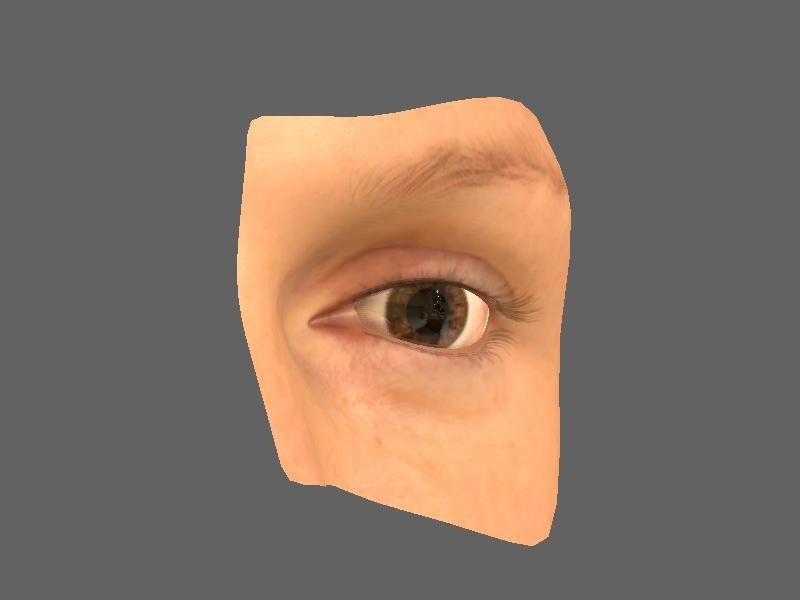iris: (388, 283, 477, 344)
